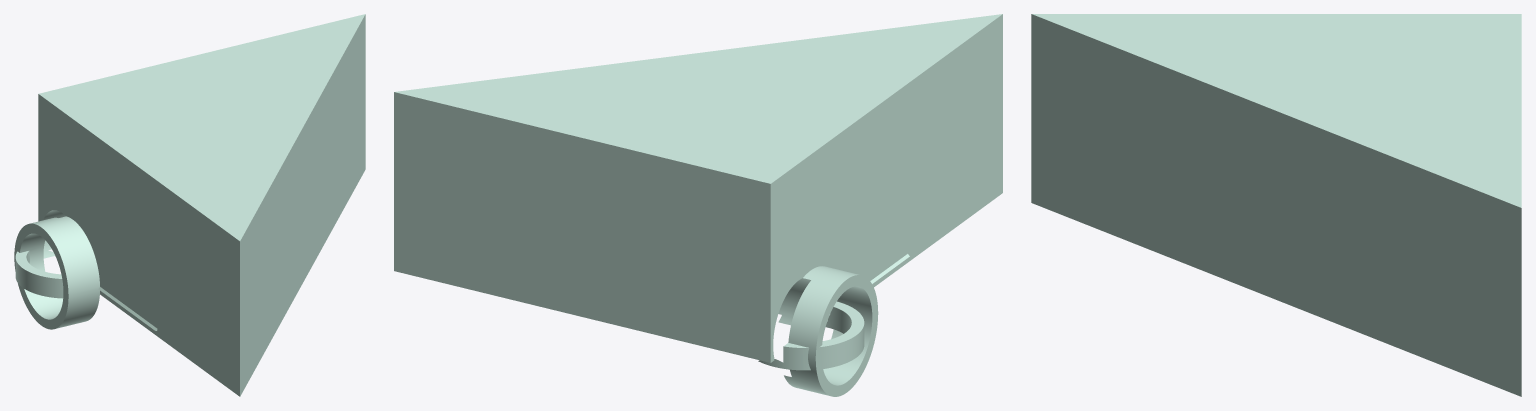
The picture shows the model from 3 angles, left to right: view 1: azimuth 30°, elevation 25°; view 2: azimuth 150°, elevation 25°; view 3: azimuth 270°, elevation 25°; orthographic projection. The views are drawn at different scales.
Parts seen in each view (by area): view 1: Renderer Node; view 2: Renderer Node; view 3: Renderer Node.
Boxes of the visible parts, bbox=[...] form: Renderer Node: bbox=[14, 14, 365, 396]; Renderer Node: bbox=[394, 14, 1002, 396]; Renderer Node: bbox=[1031, 14, 1521, 396].
Size of the model in its own units: 1.57 by 0.7989 by 1.47.
